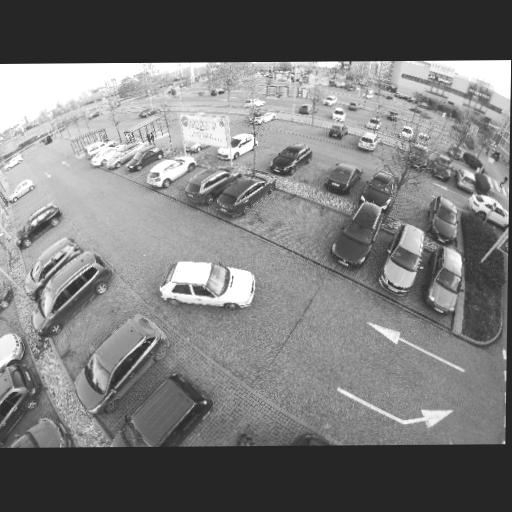busy: (74, 313, 171, 415), (122, 370, 215, 447), (39, 252, 117, 333), (156, 260, 257, 311), (379, 219, 432, 295), (0, 355, 43, 441), (328, 206, 387, 267), (427, 244, 466, 312), (0, 416, 79, 447), (216, 176, 272, 215), (32, 239, 83, 280), (185, 166, 238, 201), (424, 194, 462, 241), (19, 205, 64, 242), (146, 158, 198, 189), (269, 145, 312, 176), (323, 164, 363, 194), (214, 134, 257, 161), (473, 196, 507, 229), (359, 175, 395, 206), (127, 147, 165, 174), (104, 145, 139, 168), (90, 146, 120, 166), (8, 181, 39, 200), (455, 171, 478, 193), (354, 133, 379, 152), (430, 164, 453, 182), (326, 125, 348, 139), (184, 142, 205, 154), (366, 119, 381, 130), (349, 102, 361, 109)
free: (217, 401, 280, 446), (80, 307, 128, 339), (301, 204, 326, 255), (261, 184, 282, 233), (176, 163, 203, 192), (246, 148, 272, 170), (19, 200, 44, 215), (300, 125, 326, 138), (278, 119, 297, 135), (302, 167, 326, 179), (316, 111, 335, 121), (343, 138, 359, 147)
